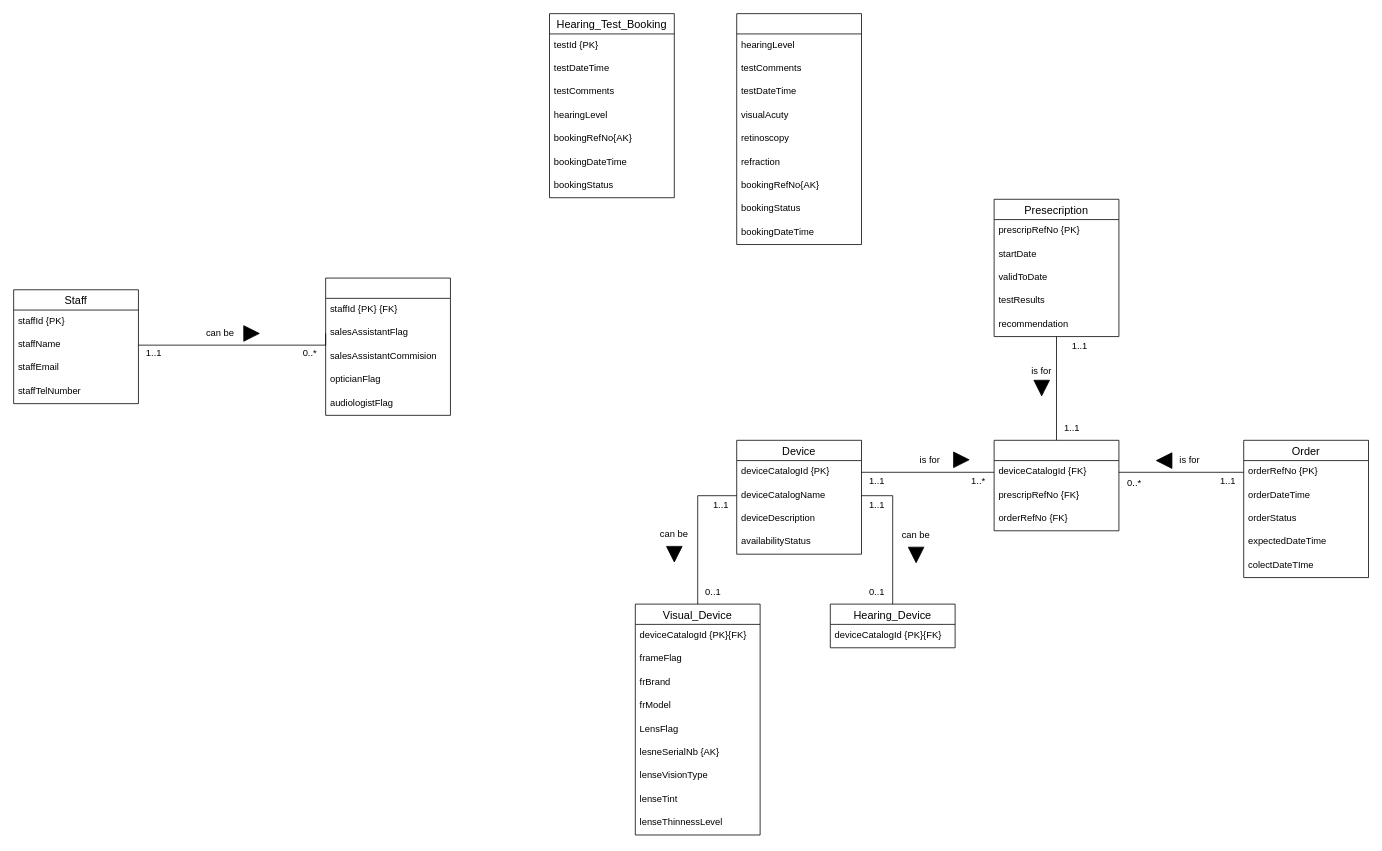
Some shapes in this 1382 by 851 pixel diagram are drawn without their labels. Each missing label, with the box of its shape:
Order_Description: (993, 440, 1119, 531)
Role: (325, 277, 450, 415)
Vision_Test_Booking: (736, 13, 862, 245)
